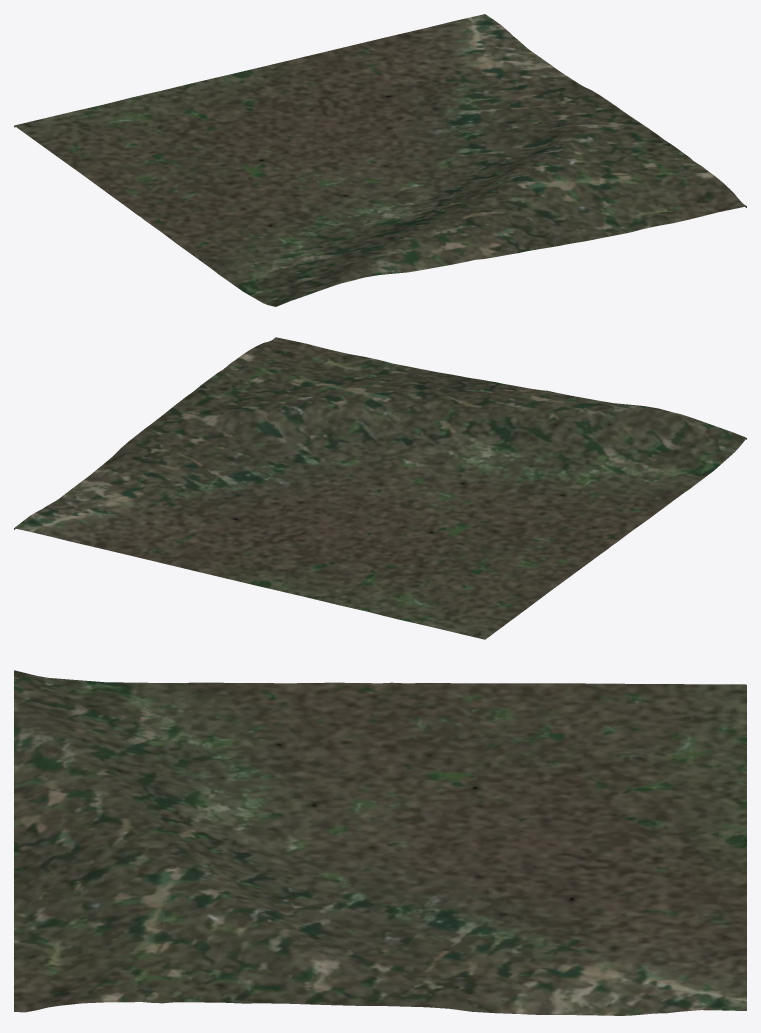
3 renders of one model, top to bottom at view 1: azimuth 30°, elevation 25°; view 2: azimuth 150°, elevation 25°; view 3: azimuth 270°, elevation 25°, orthographic. The views are drawn at different scales.
Bounding box in the file's own units: 250 × 14.17 × 241.
Materials: 1 (1 with a texture image).
